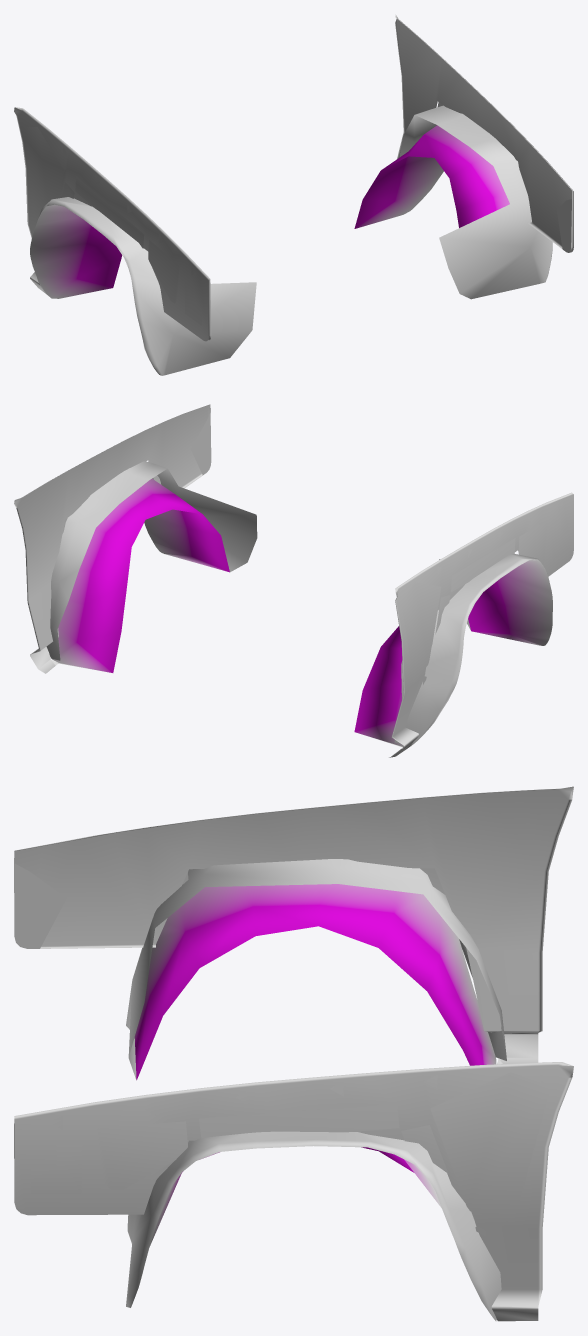
File: Car_Buick_GrandNational_1987_FendersChassisF_SetC.fbx
3 views of the same model, one above another, from view 1: azimuth 30°, elevation 25°; view 2: azimuth 150°, elevation 25°; view 3: azimuth 270°, elevation 25° (orthographic). The views are drawn at different scales.
Parts seen in each view (by area): view 1: FendersChassisF 6; view 2: FendersChassisF 6; view 3: FendersChassisF 6.
Boxes of the visible parts, left/top/right/bottom form: FendersChassisF 6: left=14, top=14, right=573, bottom=375; FendersChassisF 6: left=14, top=404, right=573, bottom=757; FendersChassisF 6: left=14, top=786, right=573, bottom=1321.
Bounding box in the file's own units: 1.81 × 0.7218 × 1.36.
